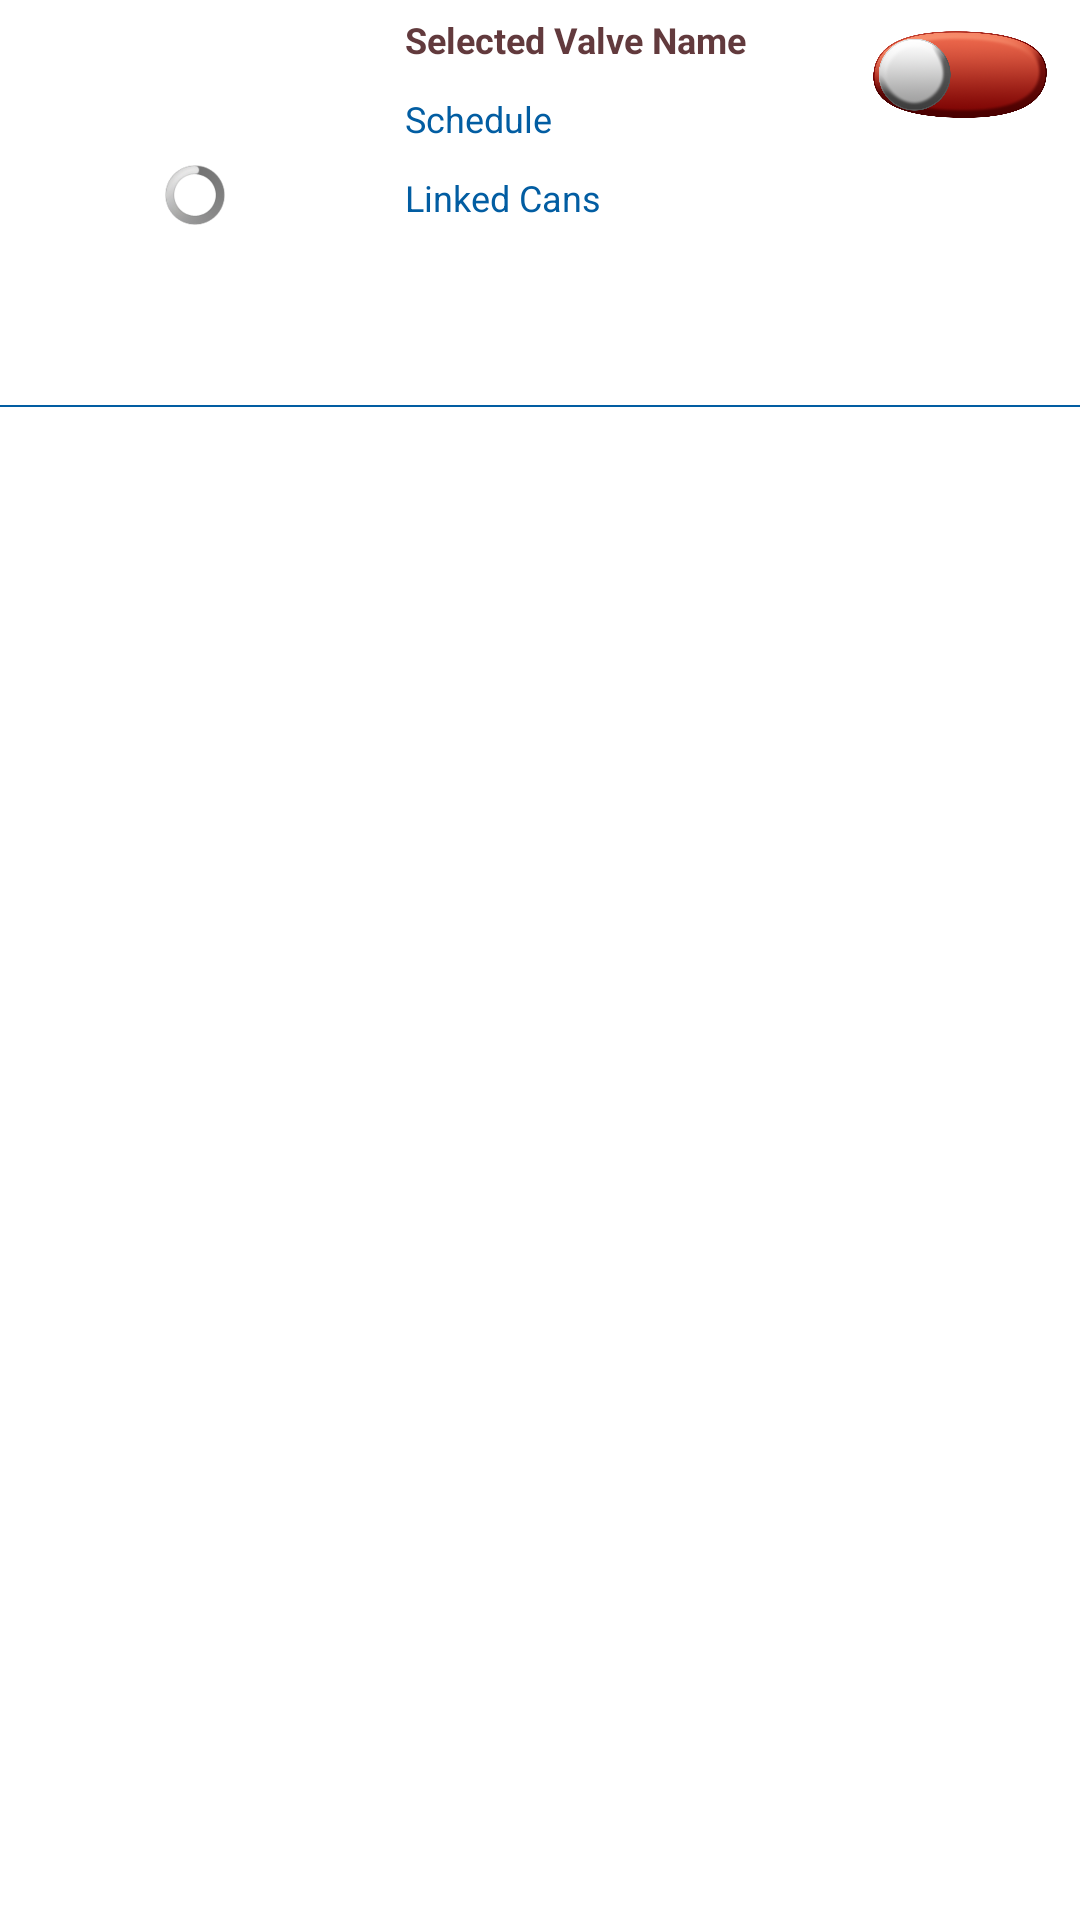

Point at icon controls on the screen. Image size 1080*1920, points as (x=x, y=y).
valve close: (x=960, y=74)
